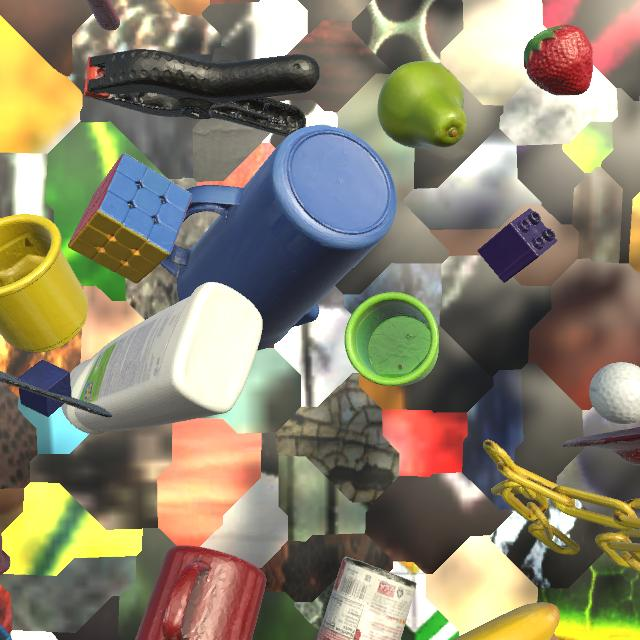ycb_005_tomato_soup_can: (316, 556, 417, 640)
ycb_011_banana: (452, 602, 560, 640)
ycb_012_strawberry: (524, 24, 593, 96)
ycb_016_pear: (377, 61, 467, 148)
